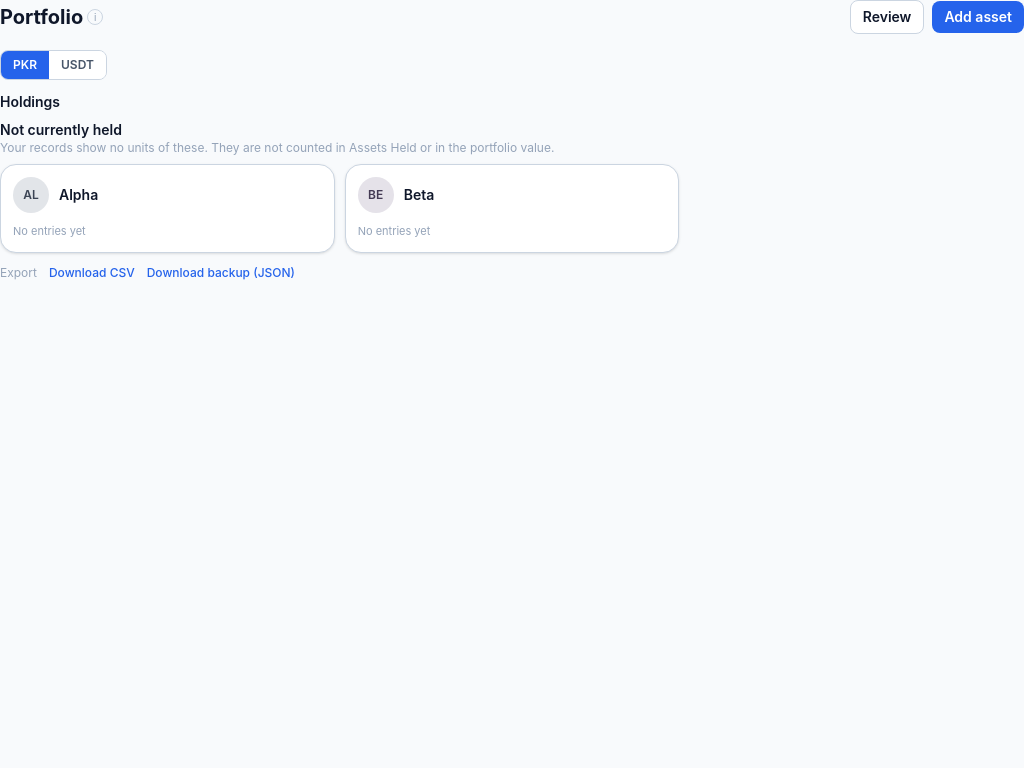
Scenario: archive and restore › archiving returns to the list, hides the token, and offers it under "Show archived"
The image size is (1024, 768).
Click the button "AL Alpha No entries yet" at coordinates (31, 195), box [0,164,335,252]
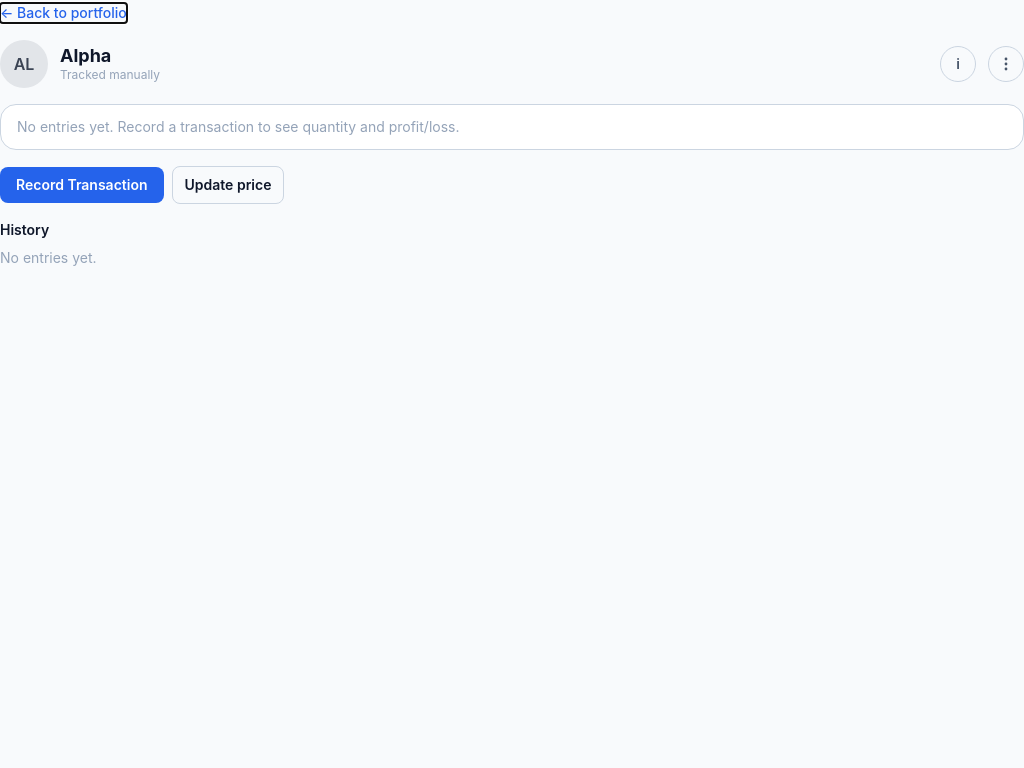
Click the button named "More actions" at coordinates (1006, 64), box [988,46,1023,82]
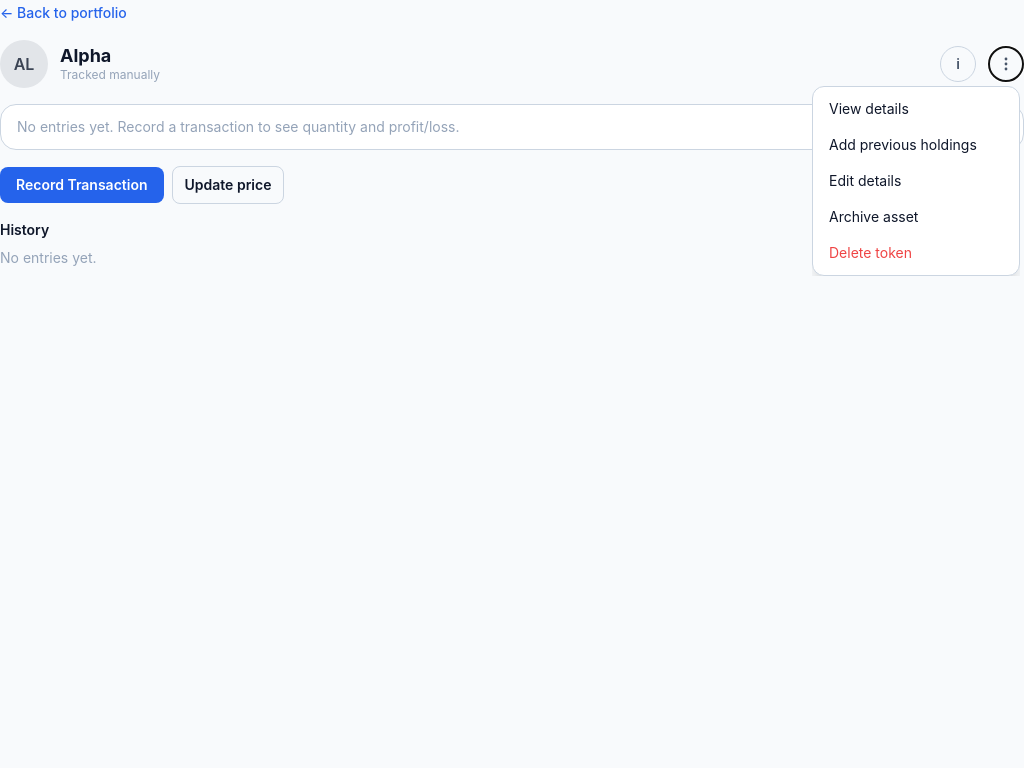
Click the menu item "Archive asset" at coordinates (916, 217), box [813,199,1019,235]
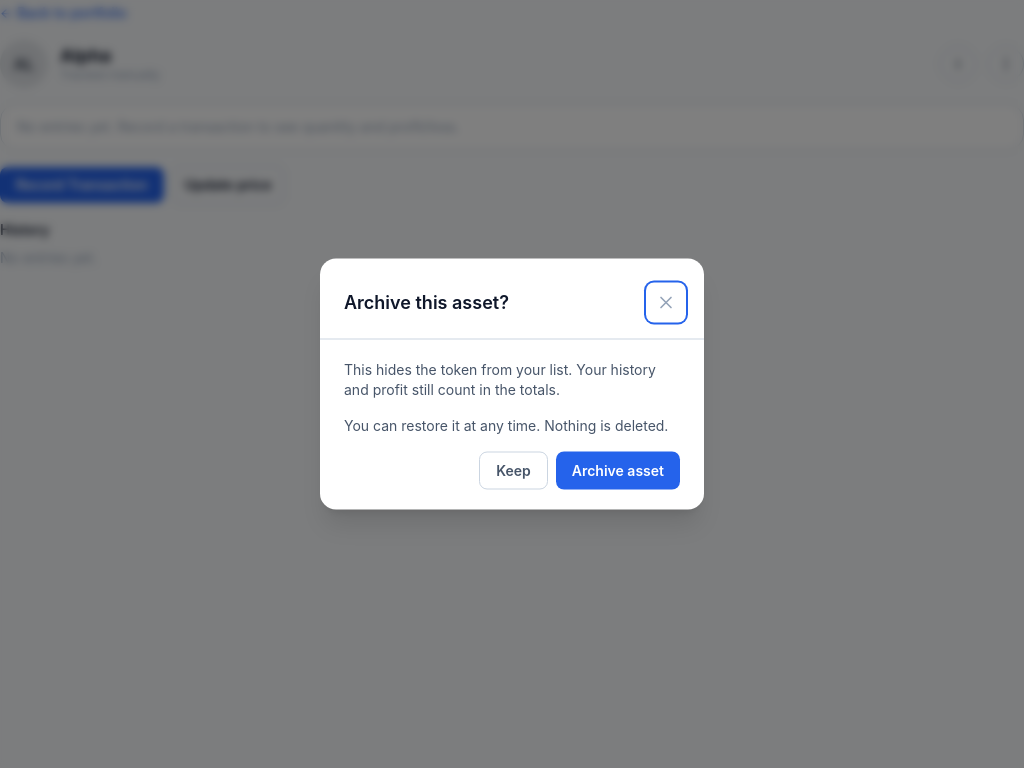
Click the button "Archive asset" at coordinates (618, 470), box [556,452,680,490]
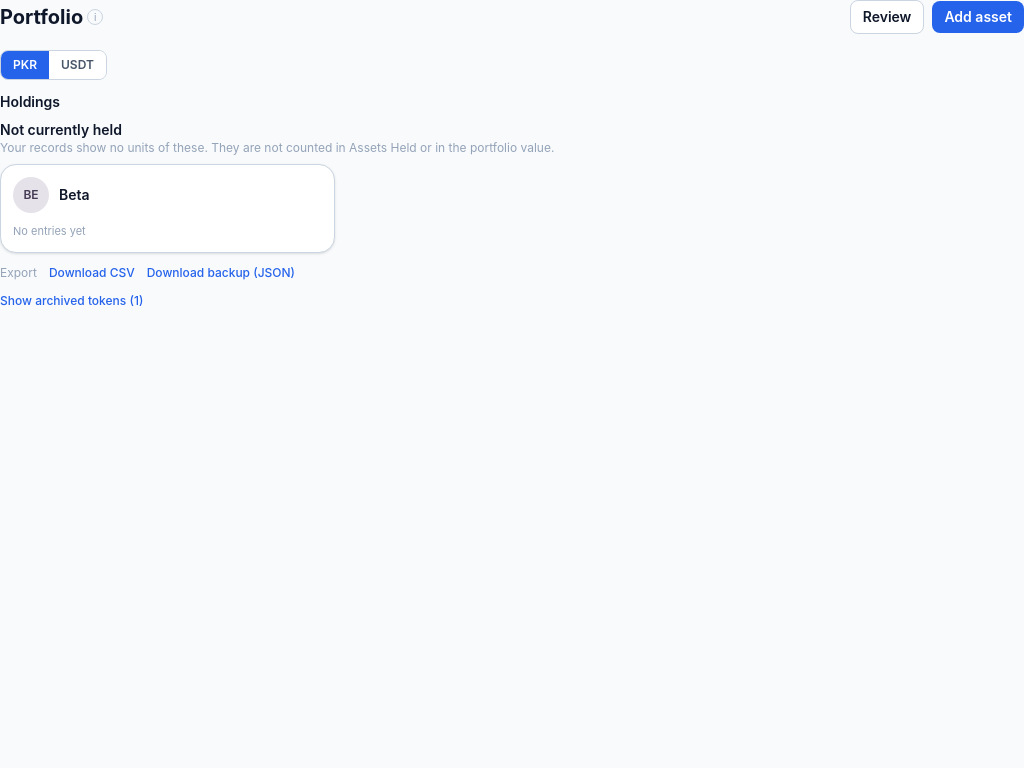
Expected: the text "Beta" is shown, [59,186,90,204]
Expected: the heading "Alpha" is gone
Click the button "Show archived tokens (1)" at coordinates (72, 300), box [0,292,143,308]
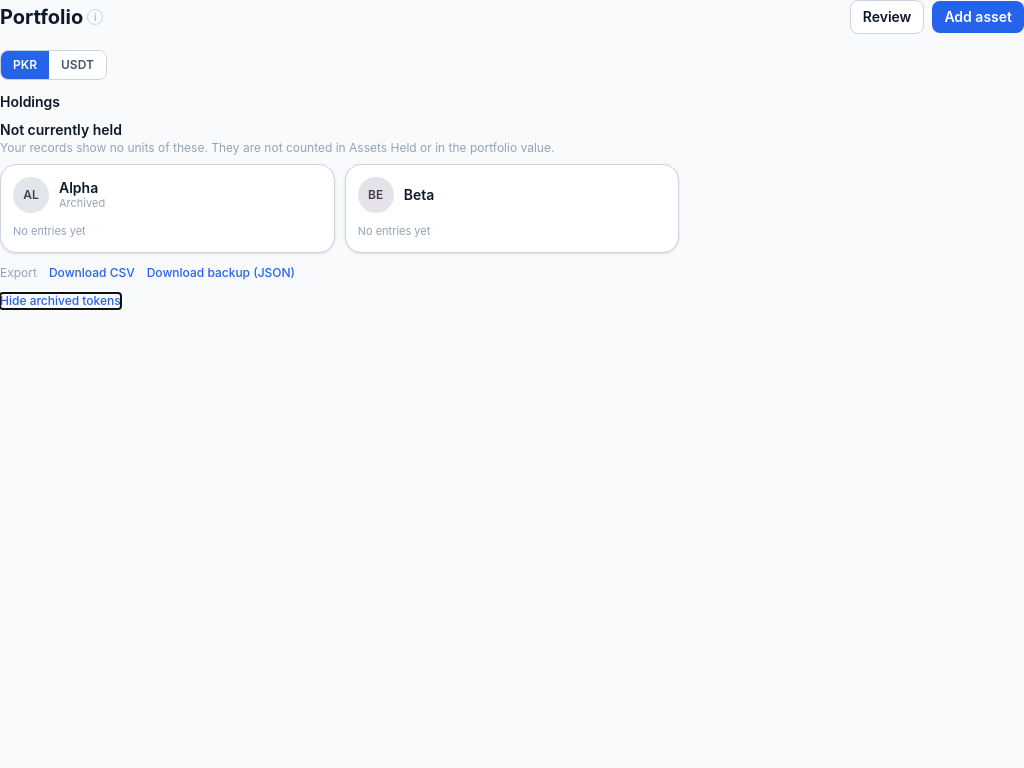
Expected: the button "AL Alpha Archived No entries yet" is shown, [0,164,335,252]
Click the button "Hide archived tokens" at coordinates (60, 300), box [0,292,121,308]
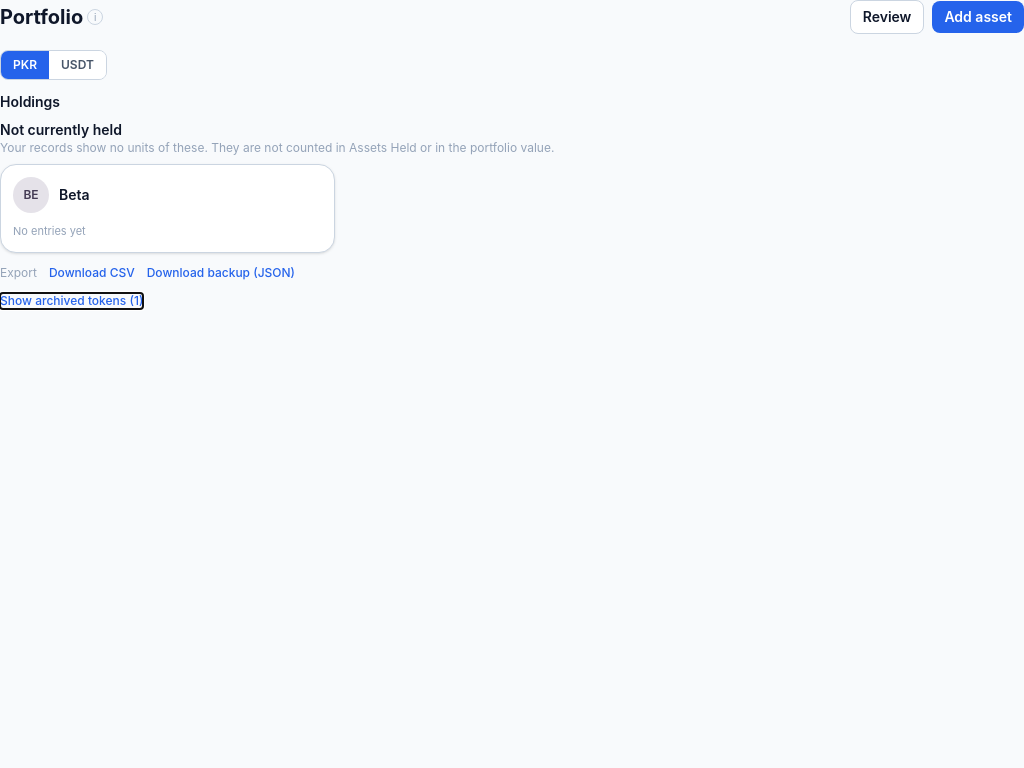
Expected: the button "Alpha" is gone
